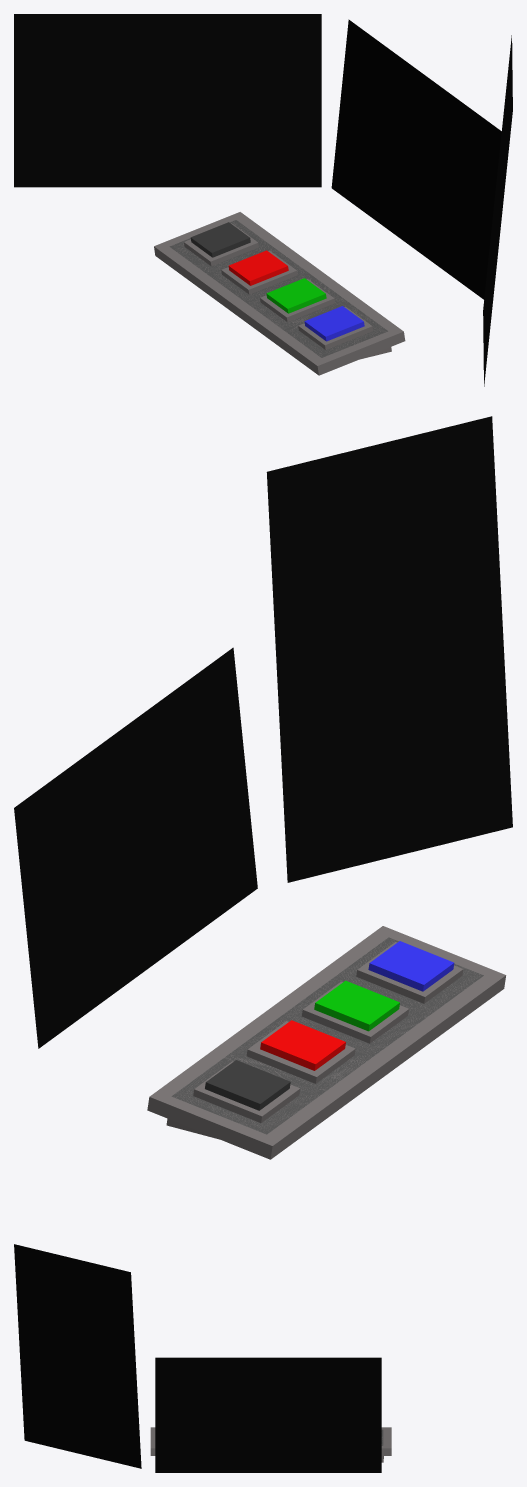
The model's file is maxtower_01_interactive.dae.
The picture shows the model from 3 angles, top to bottom: view 1: azimuth 30°, elevation 25°; view 2: azimuth 150°, elevation 25°; view 3: azimuth 270°, elevation 25°; orthographic projection. The views are drawn at different scales.
Visible parts, largest first — view 1: group_0 (×3), group_7 (×6), group_5, group_2, group_3, group_4; view 2: group_0 (×2), group_7 (×6), group_3, group_4, group_5, group_2; view 3: group_0 (×2), group_7.
Boxes of the visible parts, x1,y1,x2,y2 form: group_0 (×3): [14, 14, 512, 386]; group_7 (×6): [154, 212, 405, 375]; group_5: [304, 306, 364, 341]; group_2: [190, 222, 250, 257]; group_3: [266, 278, 326, 313]; group_4: [228, 250, 288, 285]; group_0 (×2): [14, 416, 512, 1048]; group_7 (×6): [147, 926, 506, 1159]; group_3: [314, 980, 399, 1031]; group_4: [260, 1020, 345, 1070]; group_5: [368, 941, 454, 991]; group_2: [205, 1060, 290, 1110]; group_0 (×2): [14, 1244, 381, 1472]; group_7: [150, 1427, 391, 1462].
Bounding box in the file's own units: 22.05 × 50.88 × 25.57.
